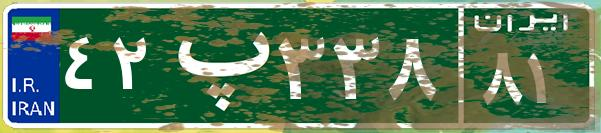1: (525, 38, 570, 115)
2: (110, 28, 158, 105)
3: (273, 28, 330, 110), (330, 28, 385, 110)
4: (57, 26, 110, 107)
8: (385, 28, 445, 110), (475, 38, 525, 113)
پ: (158, 15, 273, 115)
